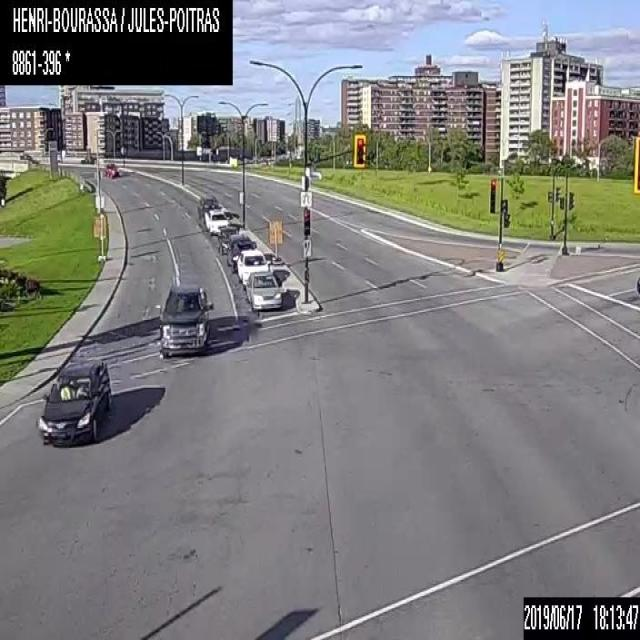vehicle: (38, 358, 109, 446), (157, 284, 209, 356), (245, 270, 282, 311), (233, 249, 271, 288), (225, 234, 256, 273), (204, 208, 229, 234), (216, 225, 238, 254), (197, 194, 219, 222), (104, 163, 119, 176)
